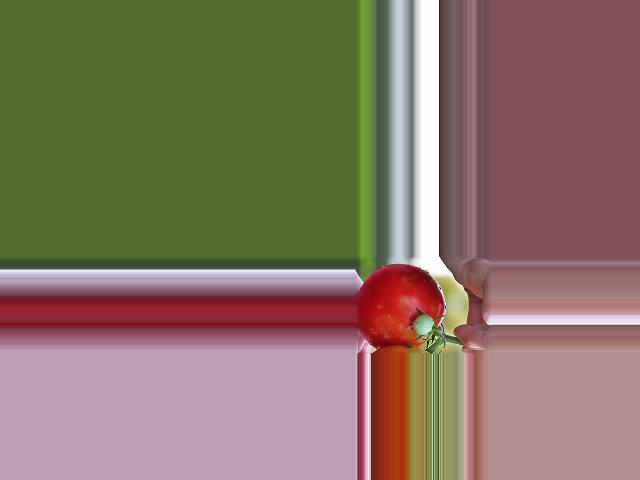tomato: (355, 264, 446, 348)
